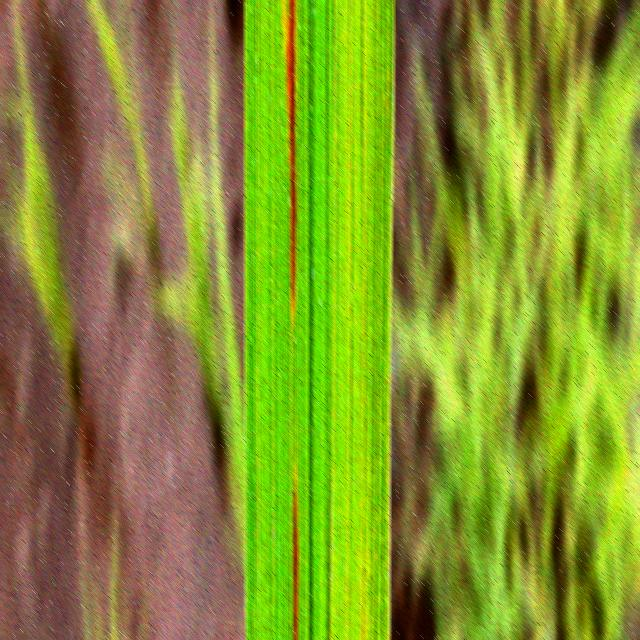NBS: (286, 0, 296, 320), (292, 464, 299, 640)
